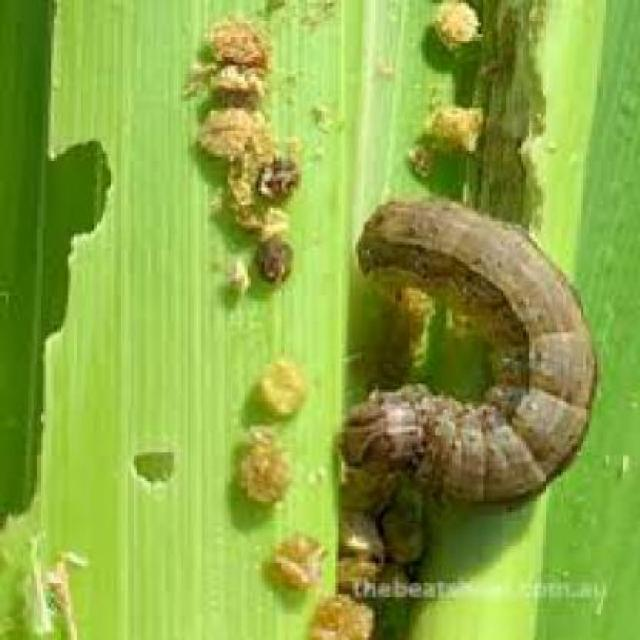Plaga: (334, 178, 614, 544), (323, 184, 614, 520)
